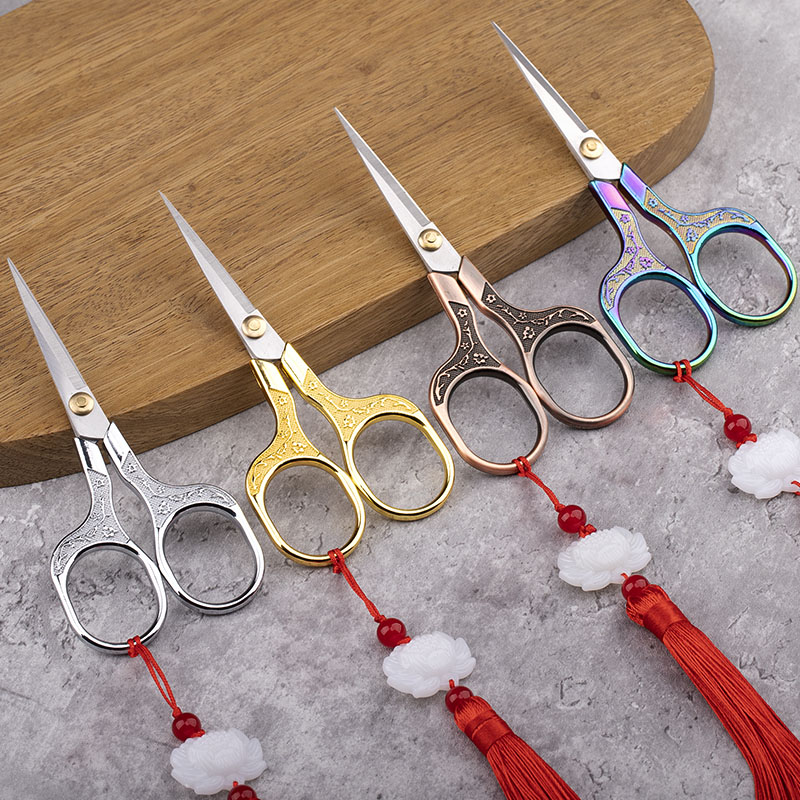scissors: (149, 184, 459, 576), (327, 100, 639, 479), (484, 13, 800, 384), (2, 255, 272, 680)
